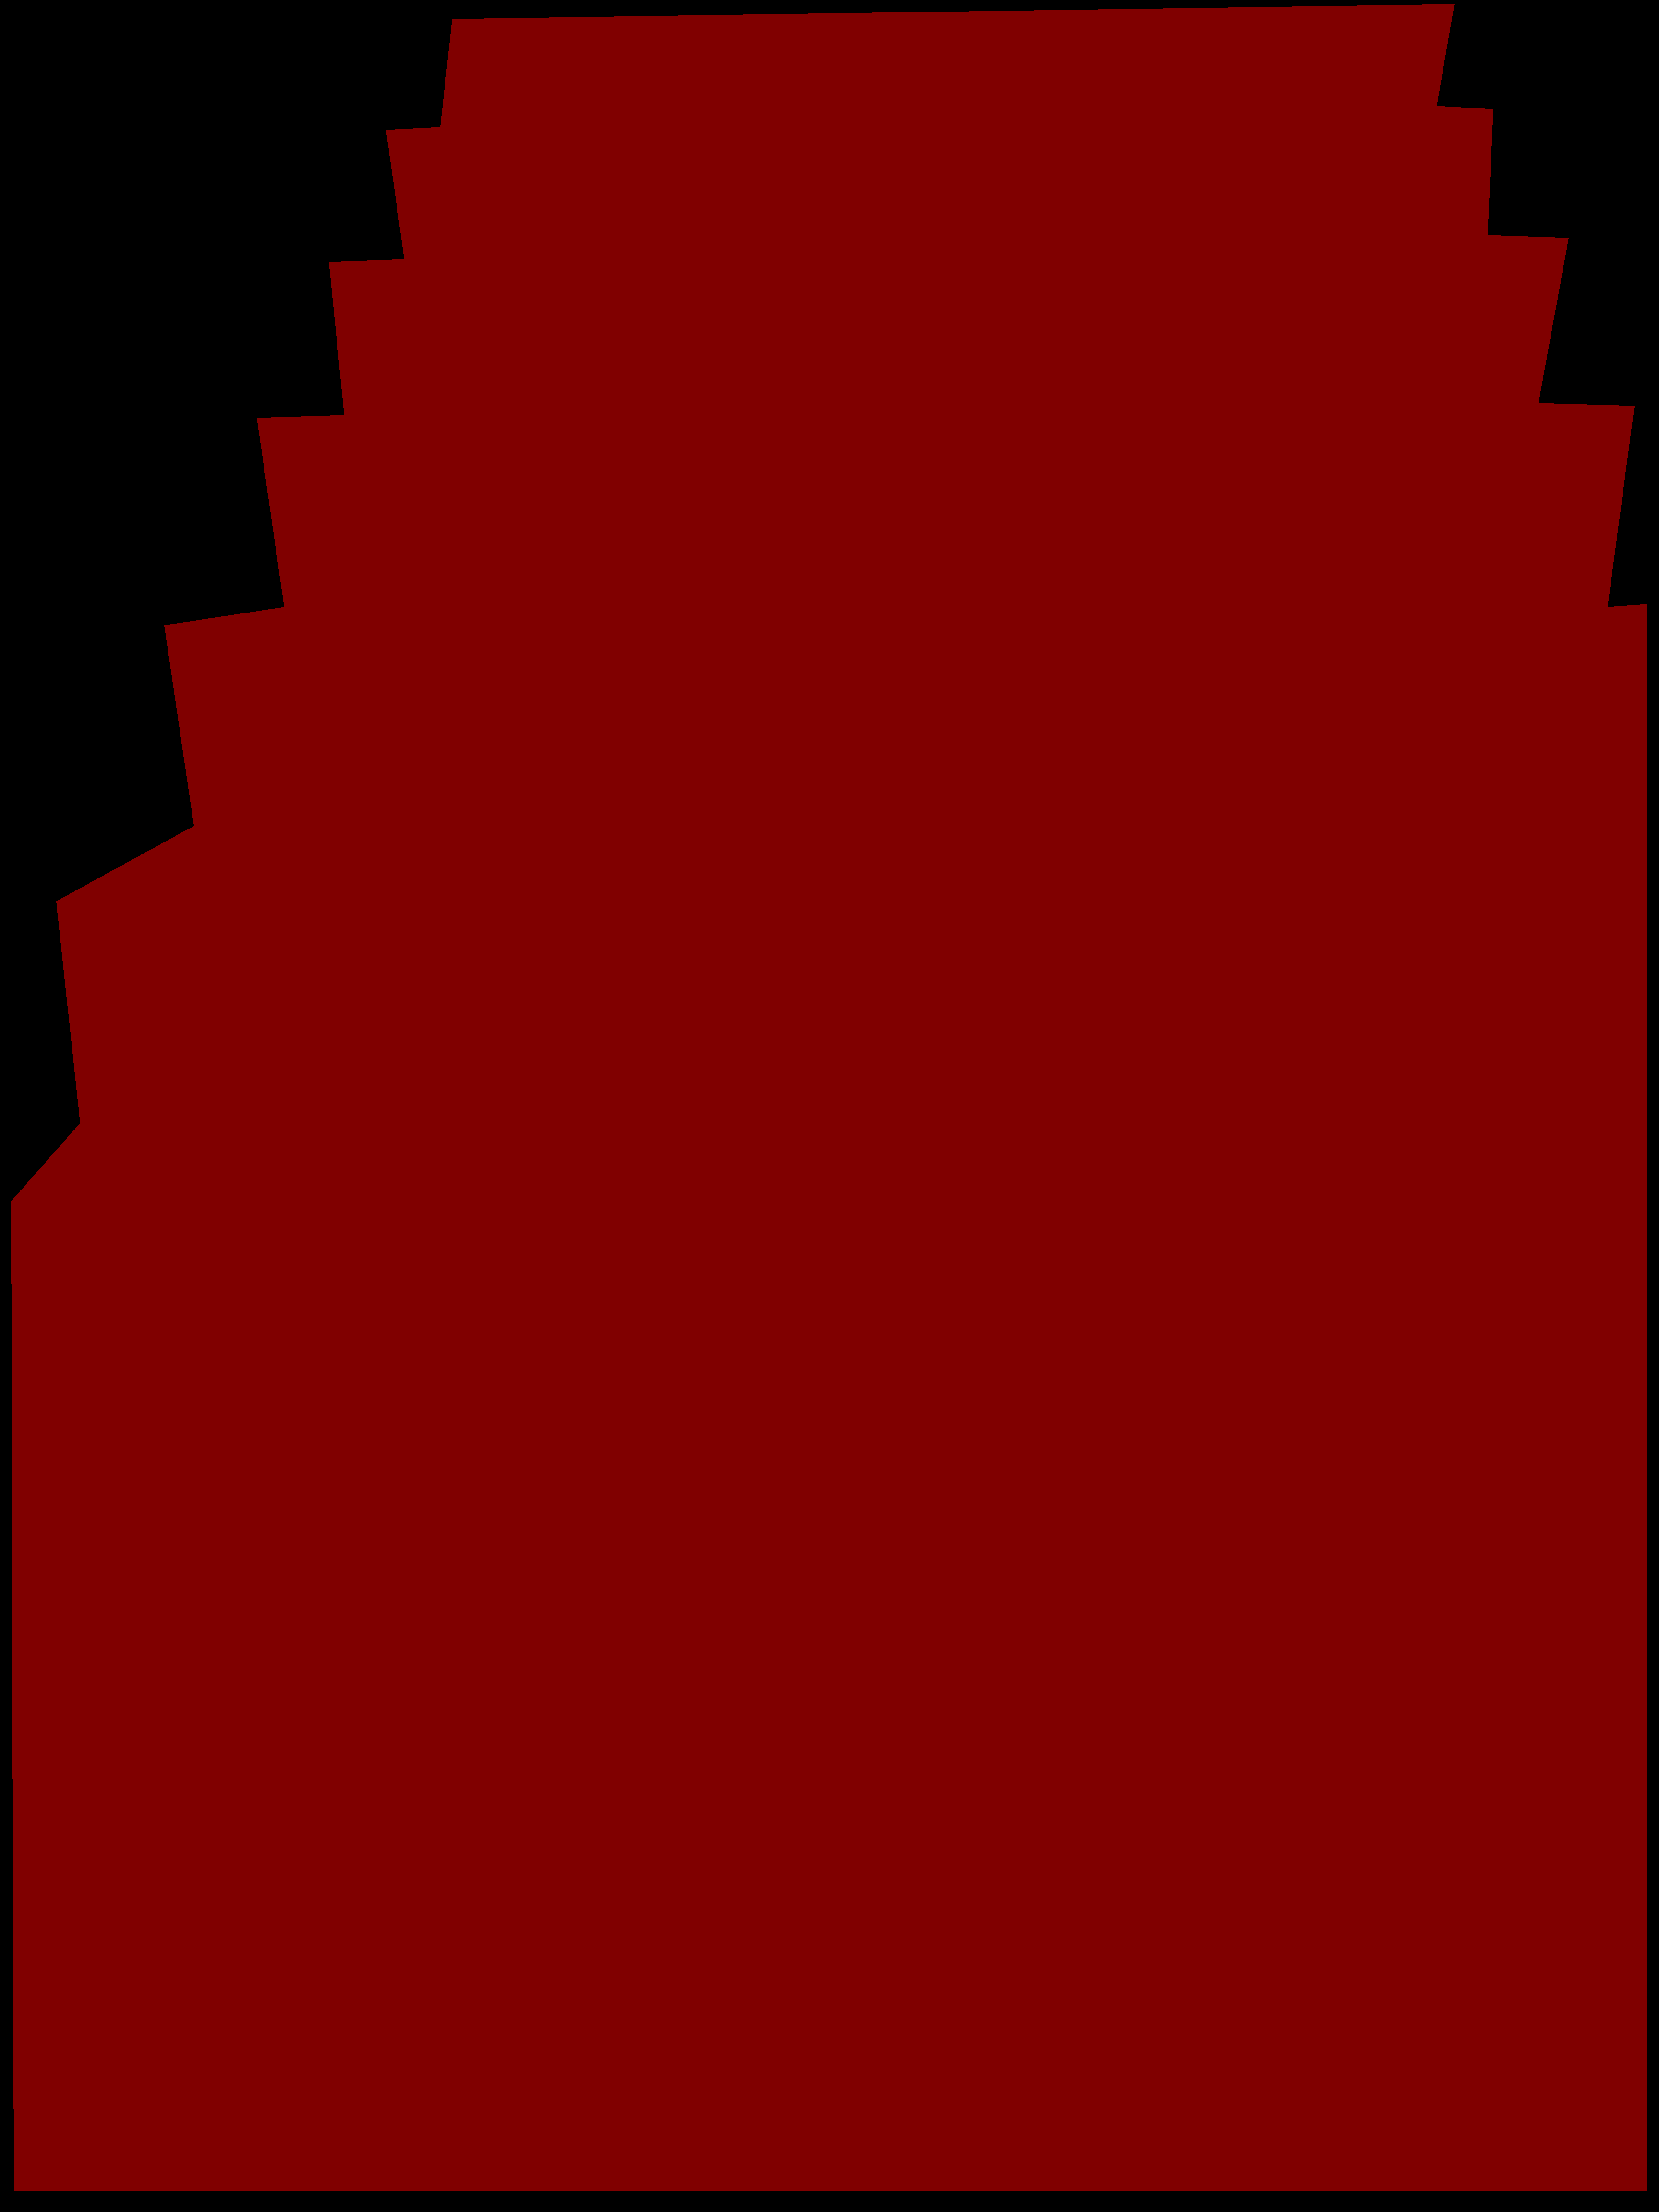stair: (10, 3, 1647, 2191)
